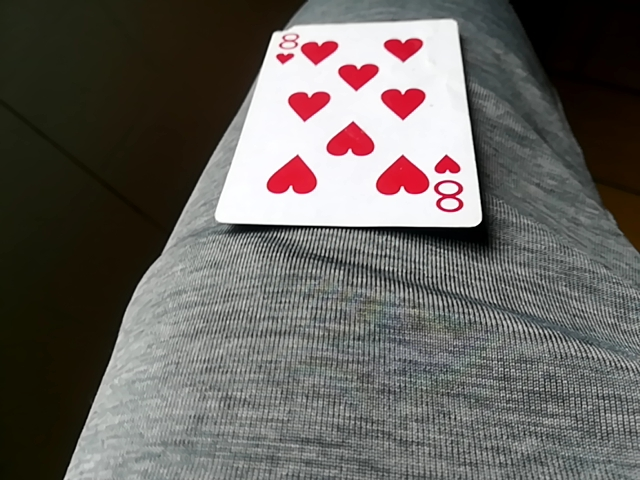hx 8: (217, 18, 481, 227)
